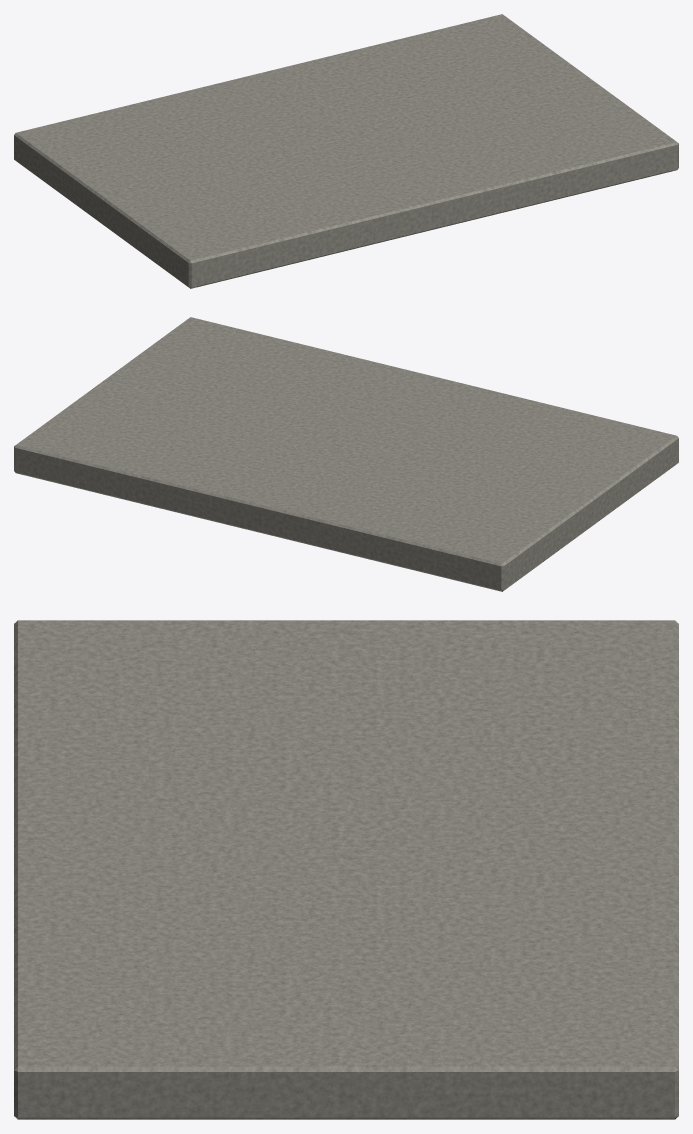
File: TUNN31CC_lod1.glb
3 views of the same model, one above another, from view 1: azimuth 30°, elevation 25°; view 2: azimuth 150°, elevation 25°; view 3: azimuth 270°, elevation 25° (orthographic). The views are drawn at different scales.
Parts seen in each view (by area): view 1: TUNN31CC_LOD1; view 2: TUNN31CC_LOD1; view 3: TUNN31CC_LOD1.
Boxes of the visible parts, x1,y1,x2,y2 form: TUNN31CC_LOD1: (14, 14, 678, 288); TUNN31CC_LOD1: (14, 317, 678, 591); TUNN31CC_LOD1: (14, 620, 678, 1119).
Size of the model in its own units: 4 by 0.22 by 2.5.
1 material, 1 textured.
